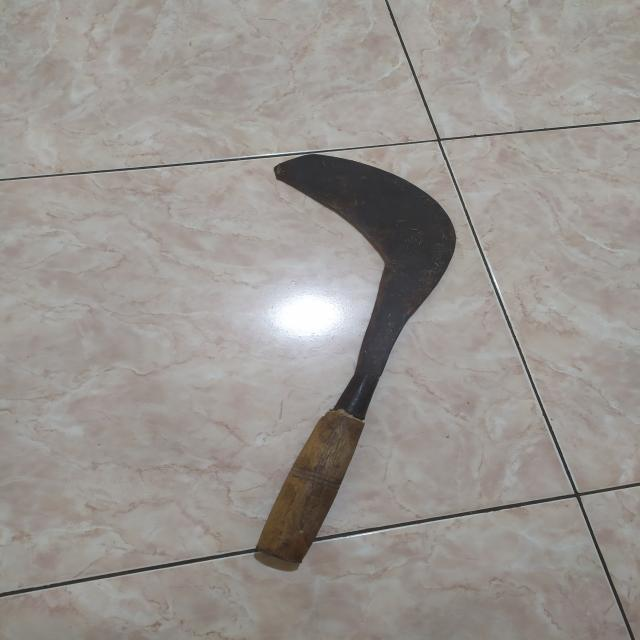Celurit: (255, 152, 460, 571)
